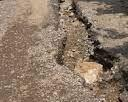pothole: (52, 1, 128, 102)
